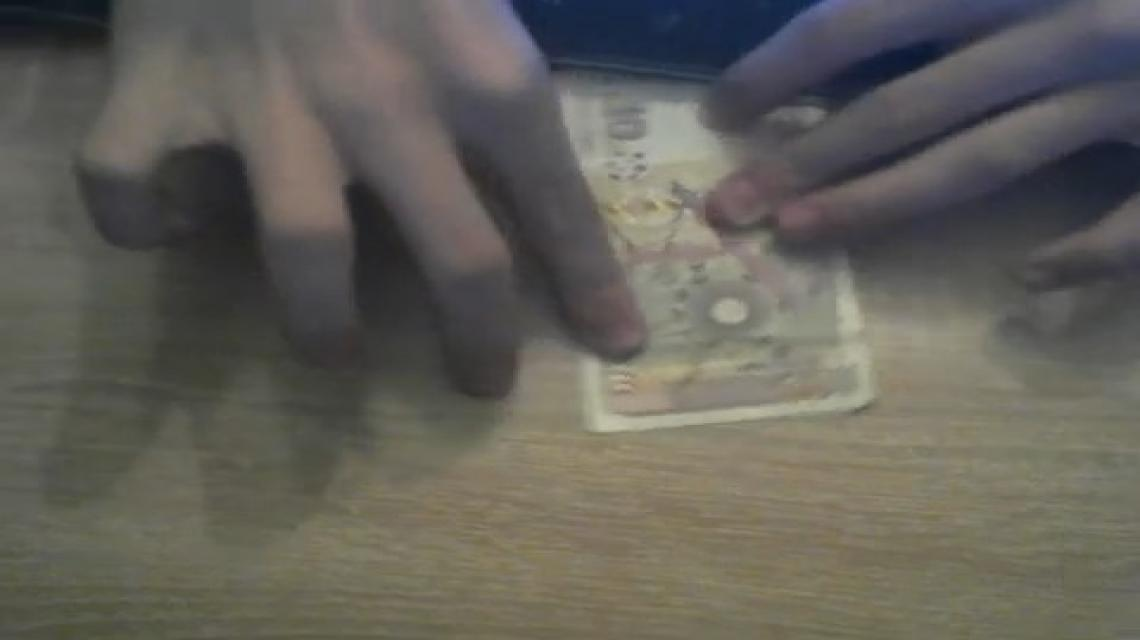10leva: (558, 66, 879, 430)
